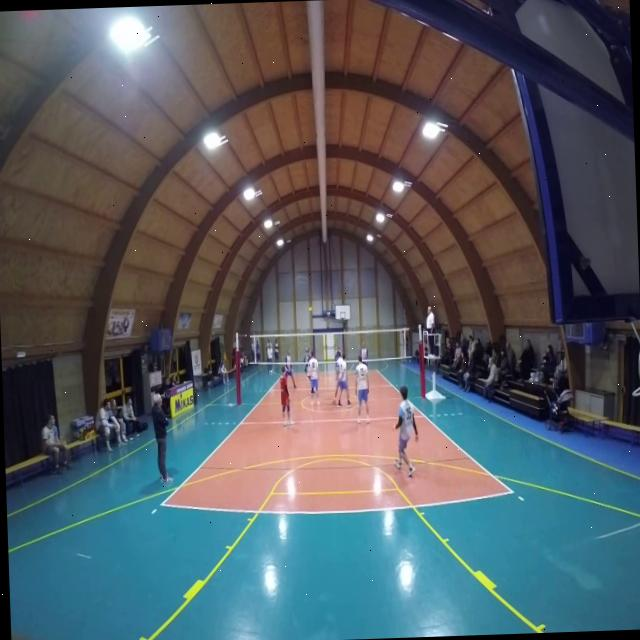Volleyball: (308, 306, 312, 314)
